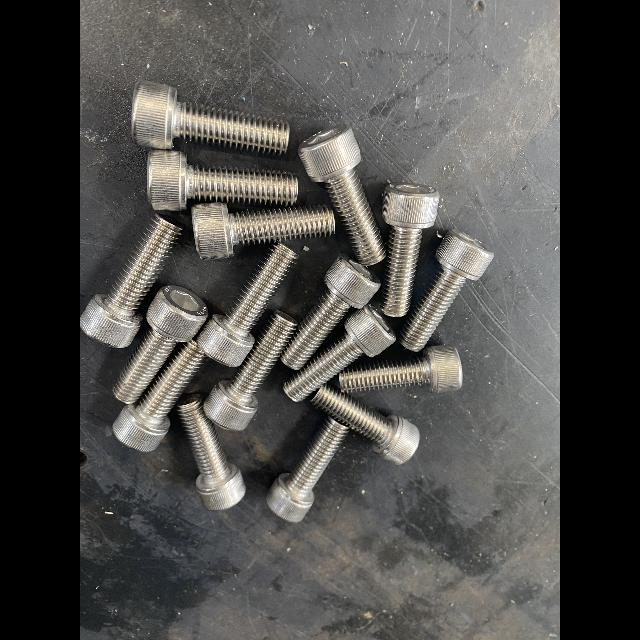Stainless Steel: (80, 218, 181, 348), (298, 125, 385, 265), (197, 245, 297, 366), (281, 255, 380, 370), (131, 81, 289, 153), (114, 286, 208, 404), (204, 311, 297, 430), (284, 303, 396, 401), (400, 232, 493, 350), (113, 340, 206, 452), (147, 150, 298, 210), (312, 384, 420, 465), (267, 418, 349, 522), (192, 202, 335, 259), (177, 394, 245, 510), (382, 182, 439, 317), (339, 345, 462, 392)
